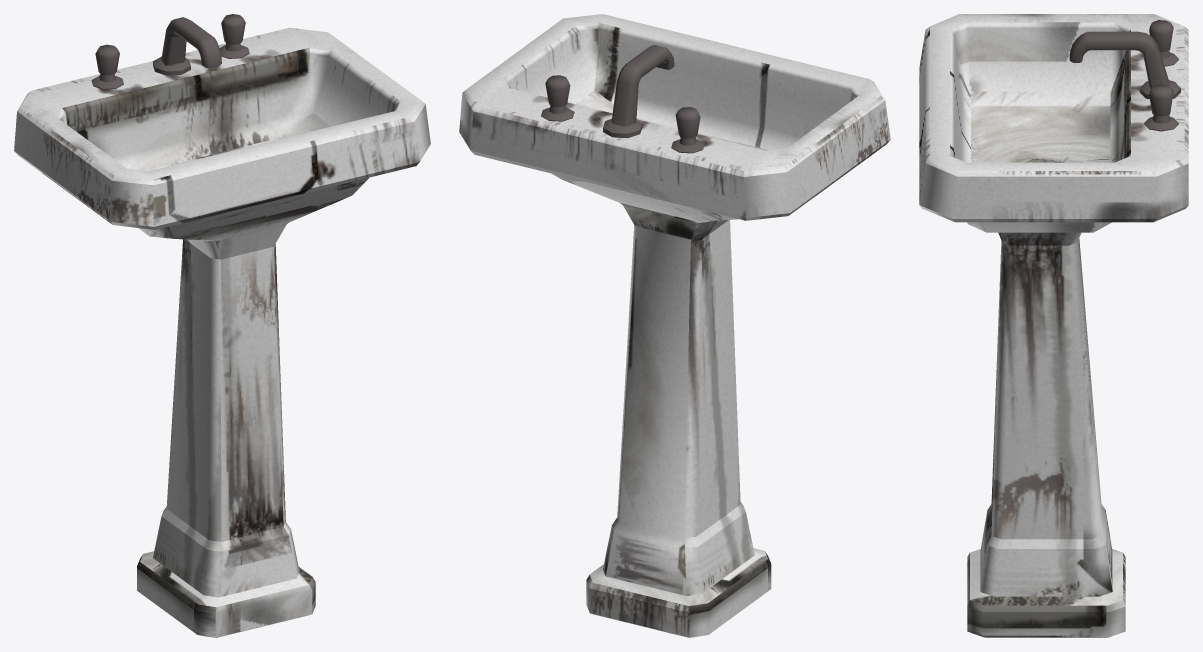
The model's file is Sink.fbx.
3 renders of one model, left to right at view 1: azimuth 30°, elevation 25°; view 2: azimuth 150°, elevation 25°; view 3: azimuth 270°, elevation 25°, orthographic. The views are drawn at different scales.
Parts seen in each view (by area): view 1: pCube357; view 2: pCube357; view 3: pCube357.
Part boxes in pixels (box(x1,y1,x2,y2)): pCube357: box(14, 14, 430, 637); pCube357: box(459, 14, 890, 637); pCube357: box(919, 14, 1188, 637).
Bounding box in the file's own units: 176 × 288 × 123.
